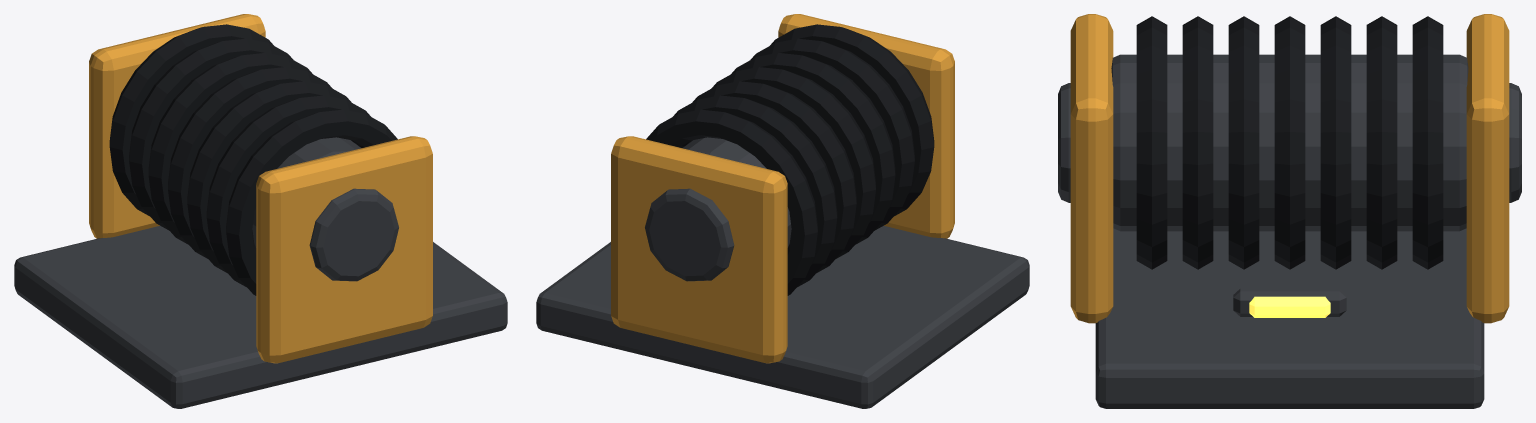
Rendered from reactor-mk1.glb.
The picture shows the model from 3 angles, left to right: view 1: azimuth 30°, elevation 25°; view 2: azimuth 150°, elevation 25°; view 3: azimuth 270°, elevation 25°; orthographic projection. The views are drawn at different scales.
Parts seen in each view (by area): view 1: reactor_mk1 body; view 2: reactor_mk1 body; view 3: reactor_mk1 body.
Part boxes in pixels (box(x1,y1,x2,y2)): reactor_mk1 body: box(14, 14, 507, 408); reactor_mk1 body: box(536, 14, 1029, 408); reactor_mk1 body: box(1058, 14, 1521, 408).
Size of the model in its own units: 1.3 by 0.9 by 1.31.
